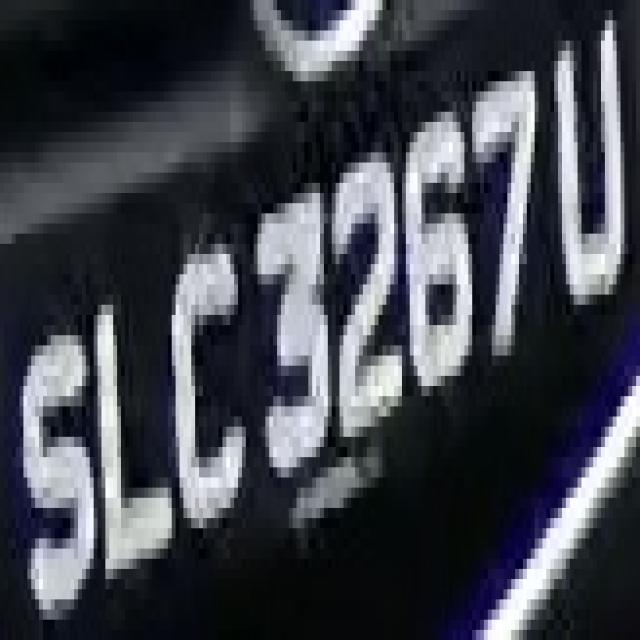2: (312, 132, 406, 447)
3: (242, 152, 343, 478)
6: (394, 101, 476, 436)
7: (452, 41, 542, 386)
C: (164, 213, 250, 569)
L: (82, 274, 172, 600)
S: (8, 315, 90, 630)
U: (550, 21, 636, 346)
